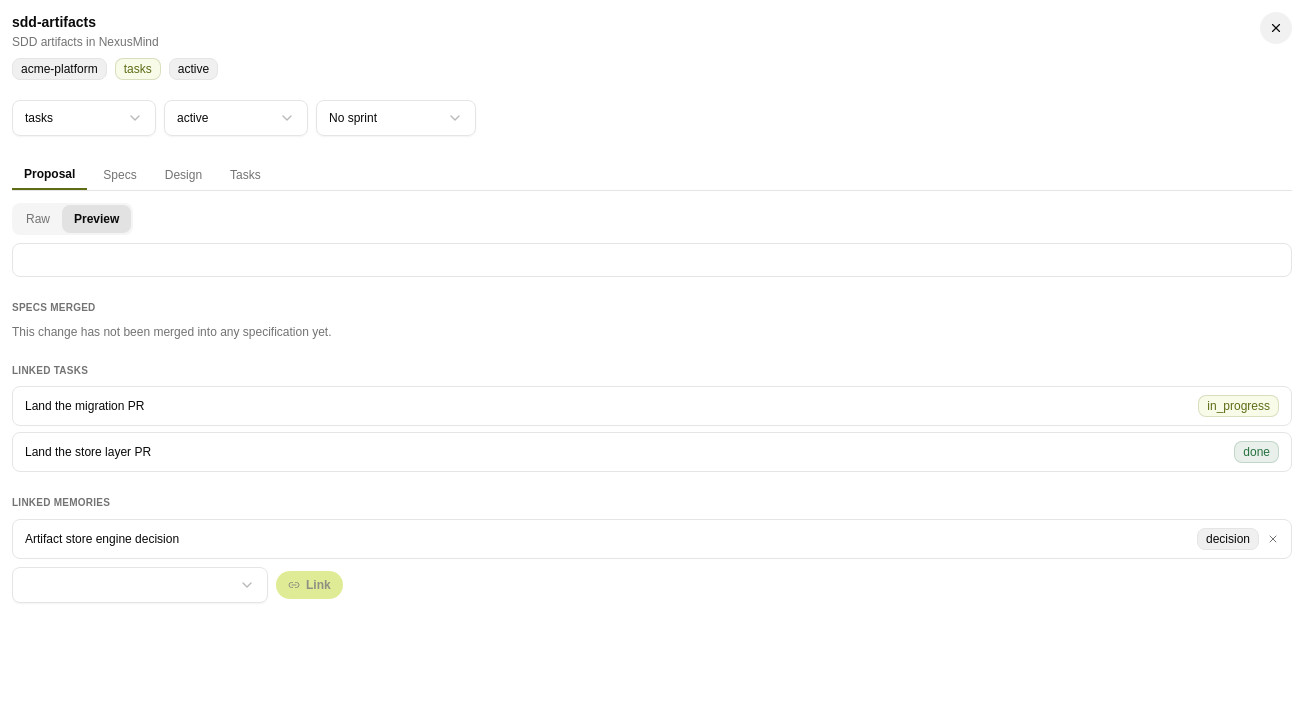
ChangeDetail — markdown rendering › change_detail_renders_the_selected_artifact_as_rendered_markdown
Click the tab "Tasks" at (245, 175), box [218,161,273,189]
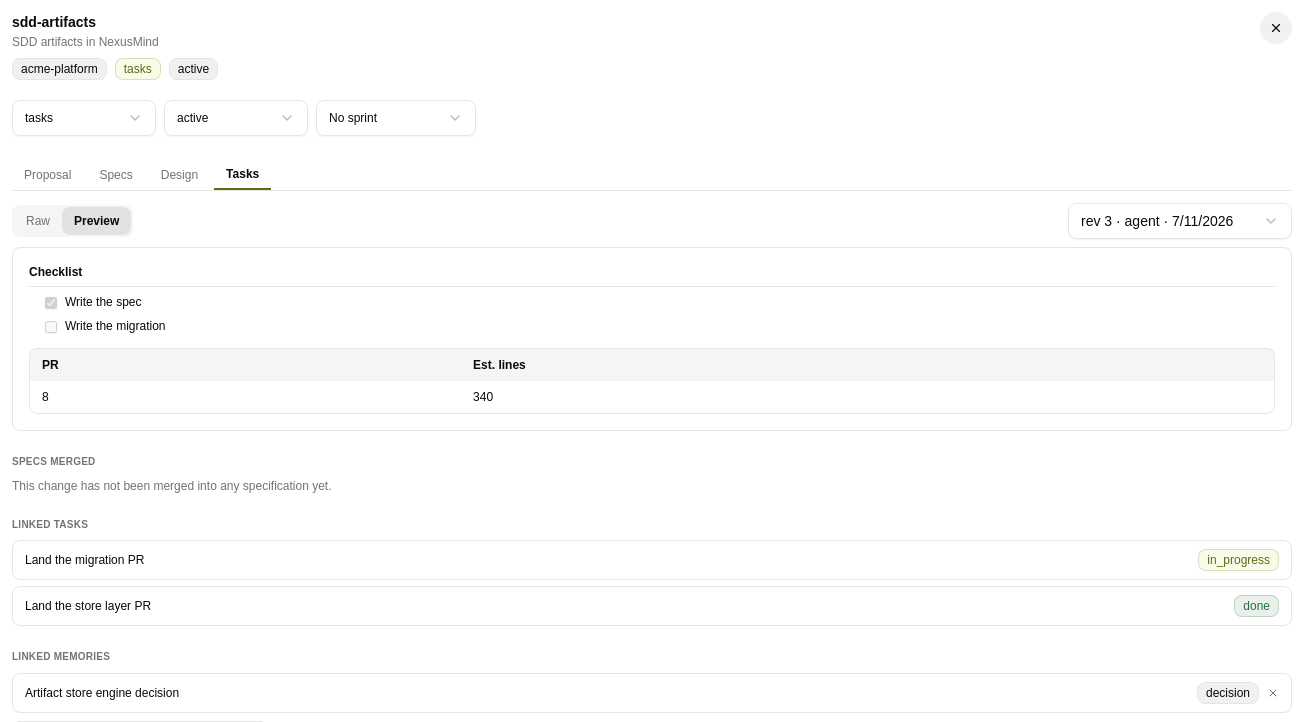
Check: the number of checkboxes is 2, box [45,297,57,309]; [45,320,57,332]
Check: the checkbox next to "Write the spec" is checked, box [45,297,57,309]
Check: the checkbox next to "Write the migration" is not checked, box [45,320,57,332]
